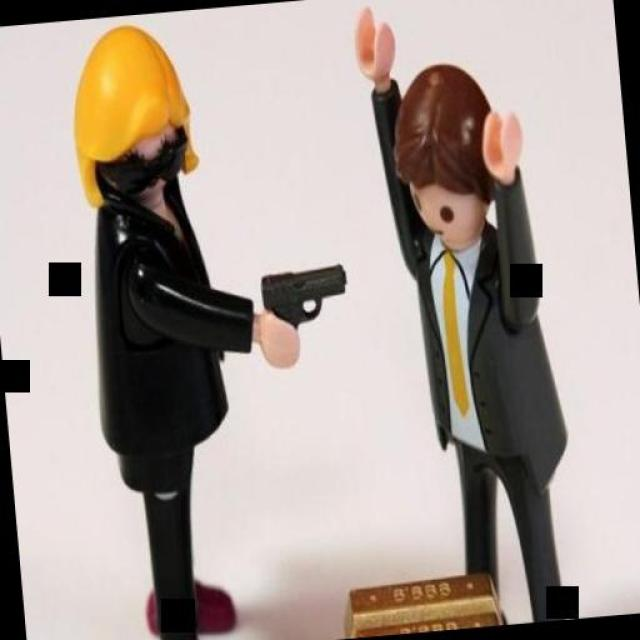gun: (256, 255, 354, 373)
